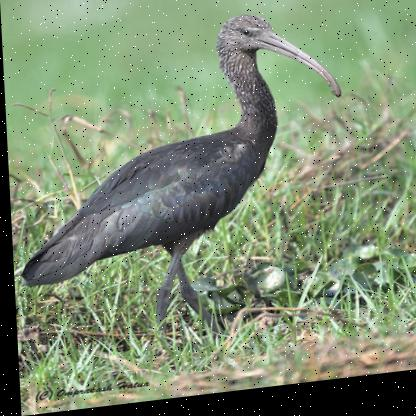Burung: (5, 12, 351, 373)
